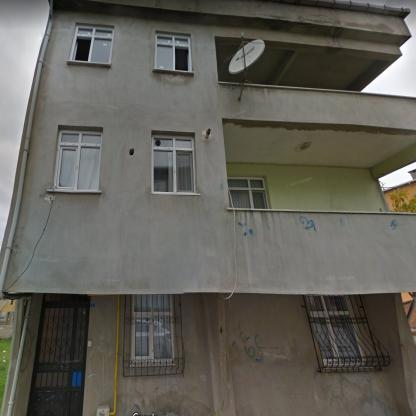door: (29, 306, 86, 416)
window: (307, 295, 364, 363), (55, 131, 101, 190), (134, 294, 173, 362), (153, 136, 194, 192), (70, 27, 112, 63), (156, 33, 192, 72), (228, 179, 268, 208), (44, 294, 88, 300)
